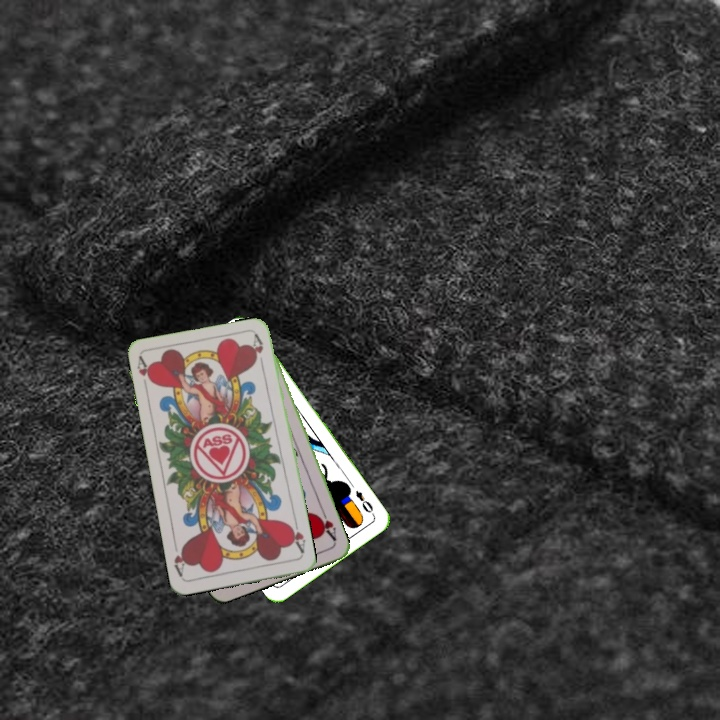EO: (351, 486, 377, 518)
HA: (313, 506, 339, 543), (133, 353, 156, 394), (285, 517, 308, 556)
